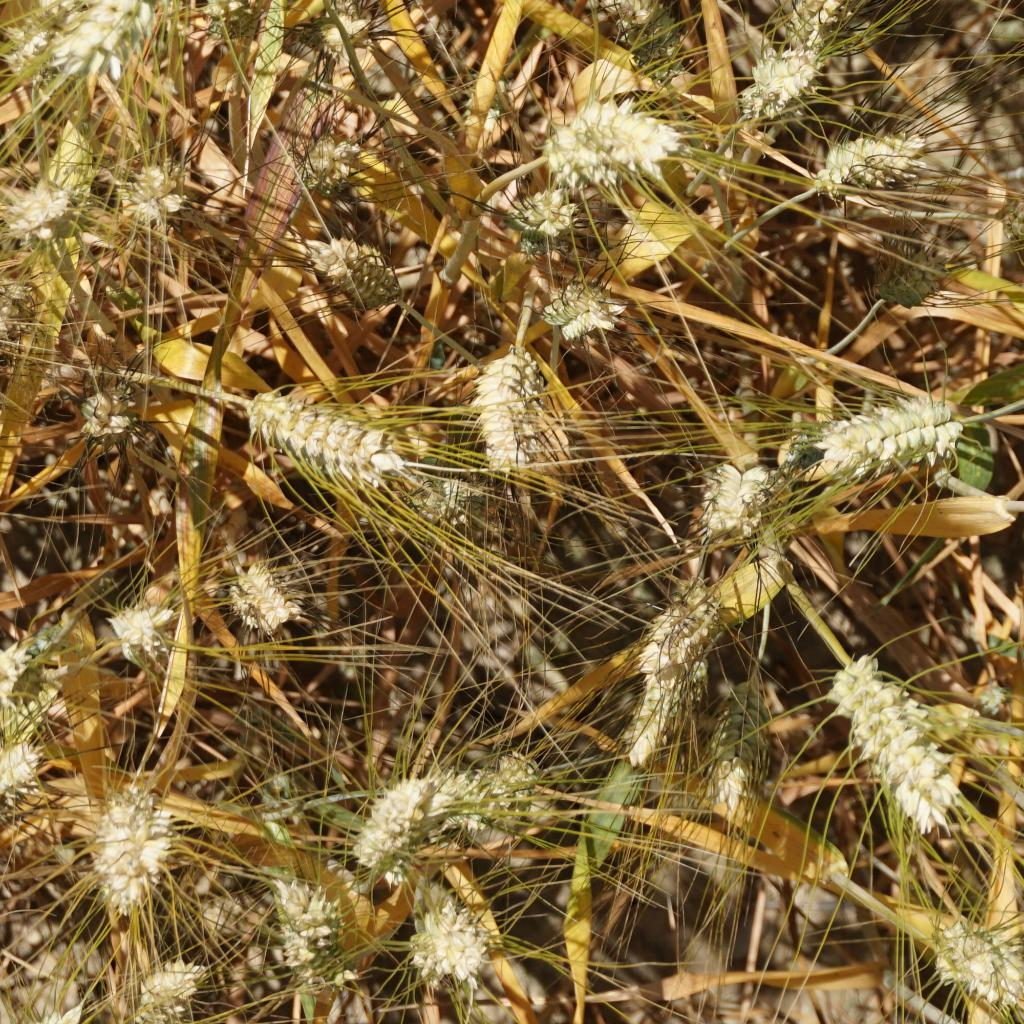0-0: (835, 649, 966, 833), (238, 374, 397, 482), (543, 92, 687, 188), (462, 326, 559, 468), (803, 384, 956, 474), (289, 218, 401, 318), (92, 777, 179, 900), (823, 110, 923, 214), (622, 547, 712, 655), (923, 905, 1024, 998), (875, 235, 980, 322), (683, 444, 768, 551), (618, 637, 693, 752), (431, 754, 529, 838), (246, 850, 325, 947), (220, 543, 305, 633), (120, 947, 216, 1024), (525, 271, 622, 344), (395, 907, 494, 976), (569, 0, 683, 58), (712, 683, 774, 789), (65, 0, 208, 45), (118, 147, 193, 232), (76, 364, 155, 444), (4, 161, 86, 238), (104, 581, 173, 663), (748, 35, 825, 108), (281, 112, 356, 185), (0, 267, 45, 386), (356, 770, 417, 854), (514, 181, 581, 242), (18, 0, 66, 81), (0, 724, 43, 811), (779, 0, 856, 31), (0, 632, 23, 705), (1006, 179, 1024, 253)
